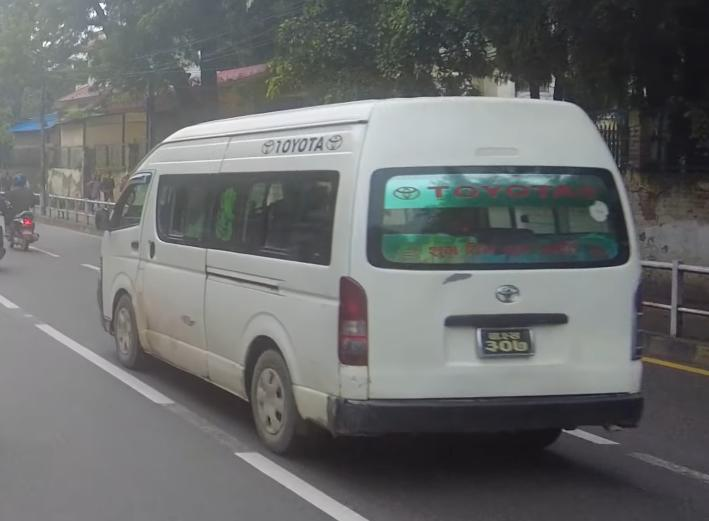micro_bus: (89, 88, 652, 463)
scooter: (0, 201, 43, 252)
